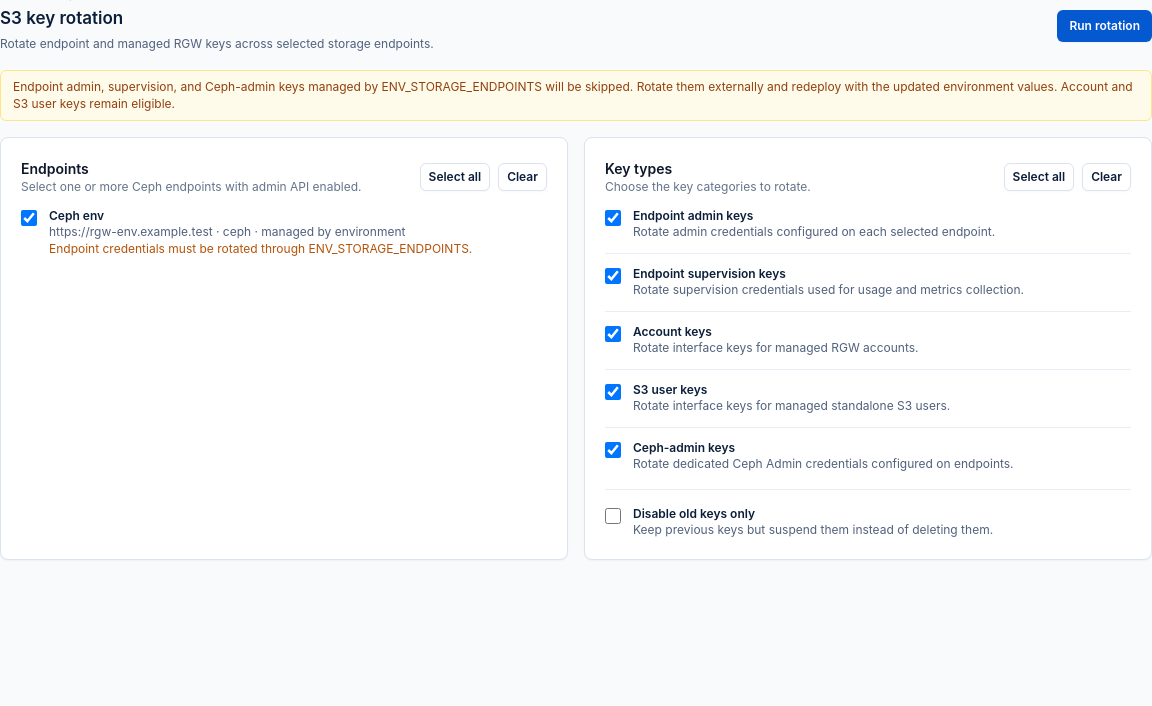
Test: KeyRotationPage › warns that environment-managed endpoint keys will be skipped
Check: the text "Ceph env" is shown, box x1=49 y1=208 x2=104 y2=222
Check: the text "Endpoint admin, supervision, and Ceph-admin keys managed by ENV_STORAGE_ENDPOINTS" is shown, box x1=13 y1=79 x2=1133 y2=110
Click the button "Run rotation".
click(1105, 26)  # box x1=1057 y1=10 x2=1151 y2=42
(page scrolled)
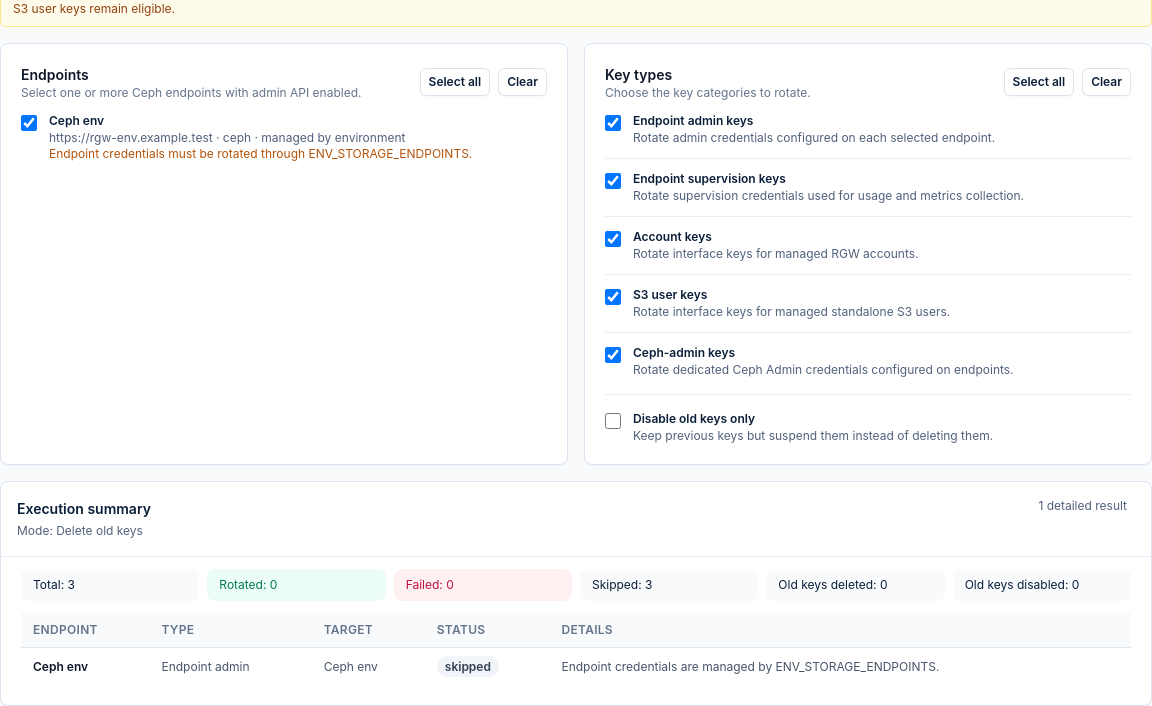
Check: the text "Skipped: 3" is shown, box x1=580 y1=568 x2=758 y2=601
